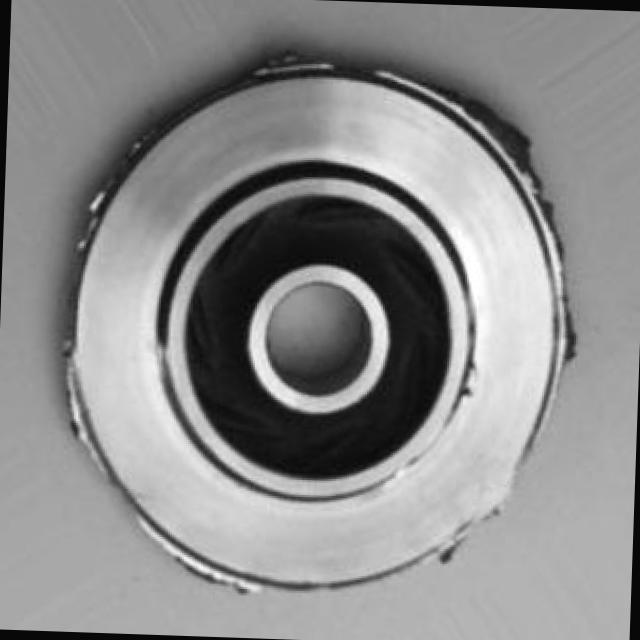Defect: (438, 80, 552, 202)
